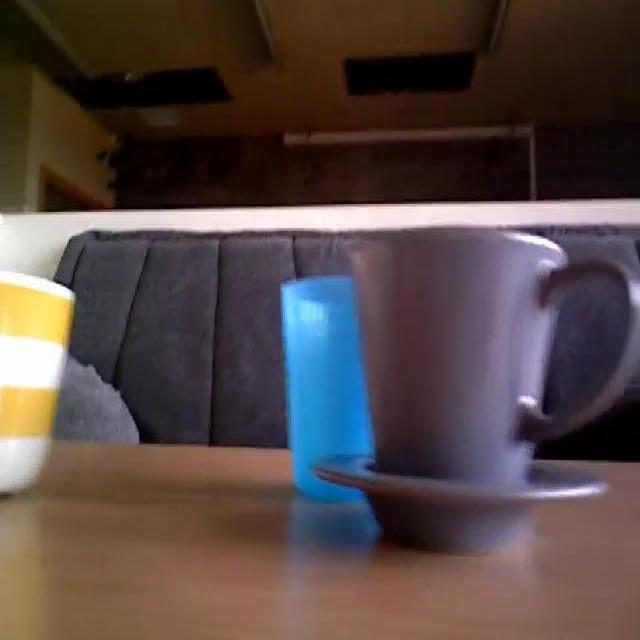cup: (332, 225, 640, 550)
